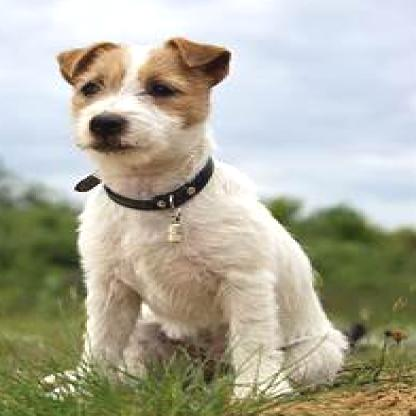dog: (53, 36, 340, 398)
